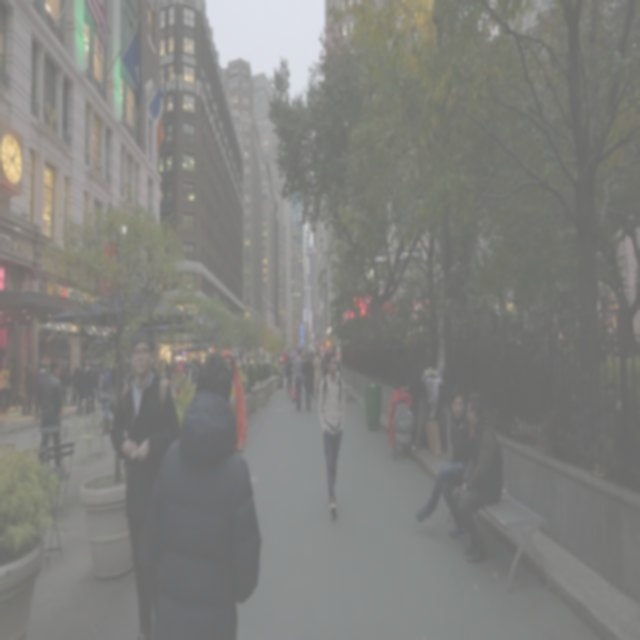pessoa: (135, 346, 264, 638), (110, 326, 182, 638), (448, 389, 504, 567), (0, 346, 117, 430), (414, 389, 471, 536), (316, 348, 348, 526), (218, 346, 248, 454), (276, 342, 344, 386), (414, 361, 444, 459), (38, 355, 64, 468), (156, 352, 208, 395), (292, 346, 307, 414), (300, 348, 315, 413), (311, 346, 323, 410), (282, 352, 294, 400)
